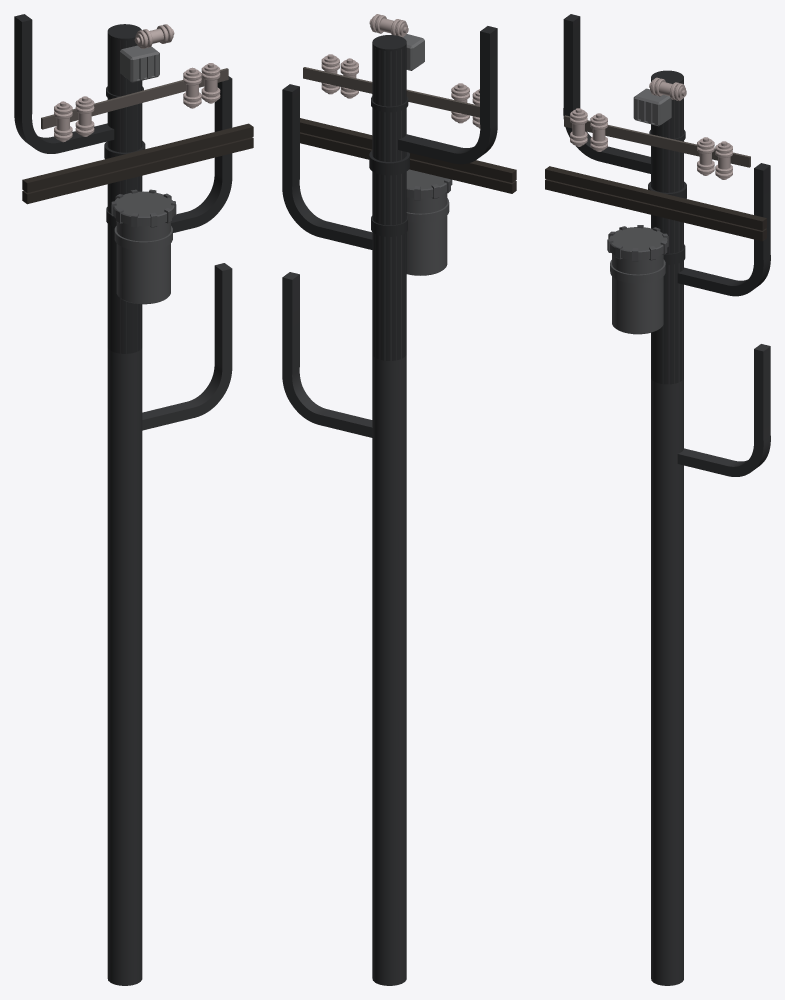
The model's file is m_electric_pole.FBX.
3 renders of one model, left to right at view 1: azimuth 30°, elevation 25°; view 2: azimuth 150°, elevation 25°; view 3: azimuth 330°, elevation 25°, orthographic. The views are drawn at different scales.
Parts seen in each view (by area): view 1: electric_pole; view 2: electric_pole; view 3: electric_pole.
Part boxes in pixels (box(x1,y1,x2,y2)): electric_pole: box(14, 14, 253, 985); electric_pole: box(282, 14, 516, 985); electric_pole: box(545, 14, 770, 985).
Size of the model in its own units: 75.57 by 313 by 29.57.
